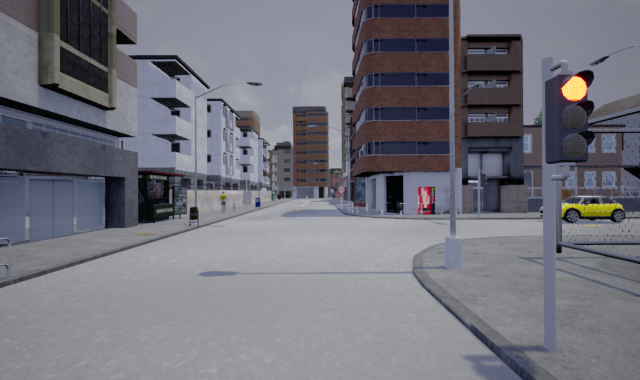pedestrian: (218, 190, 228, 213)
vehicle: (534, 195, 629, 223)
